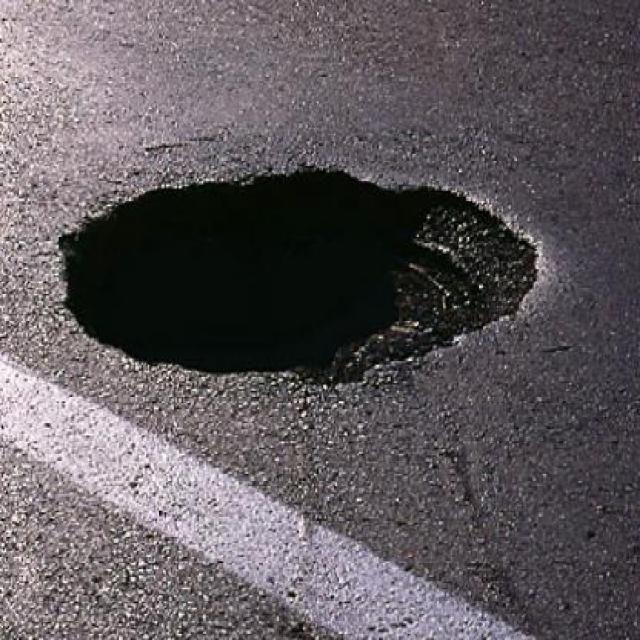pothole: (53, 148, 547, 404)
